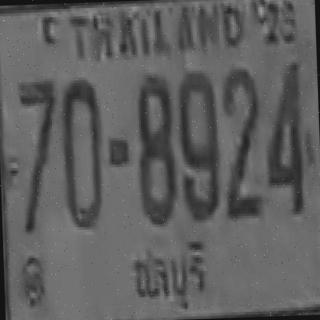N00: (60, 77, 103, 227)
N02: (220, 66, 262, 203), (220, 66, 261, 192)
N04: (261, 59, 304, 212)
N07: (16, 78, 59, 224), (18, 78, 58, 205), (18, 78, 58, 189), (18, 78, 57, 175)
N08: (133, 72, 176, 222)
N09: (177, 70, 220, 218)
P13: (123, 240, 211, 317)
